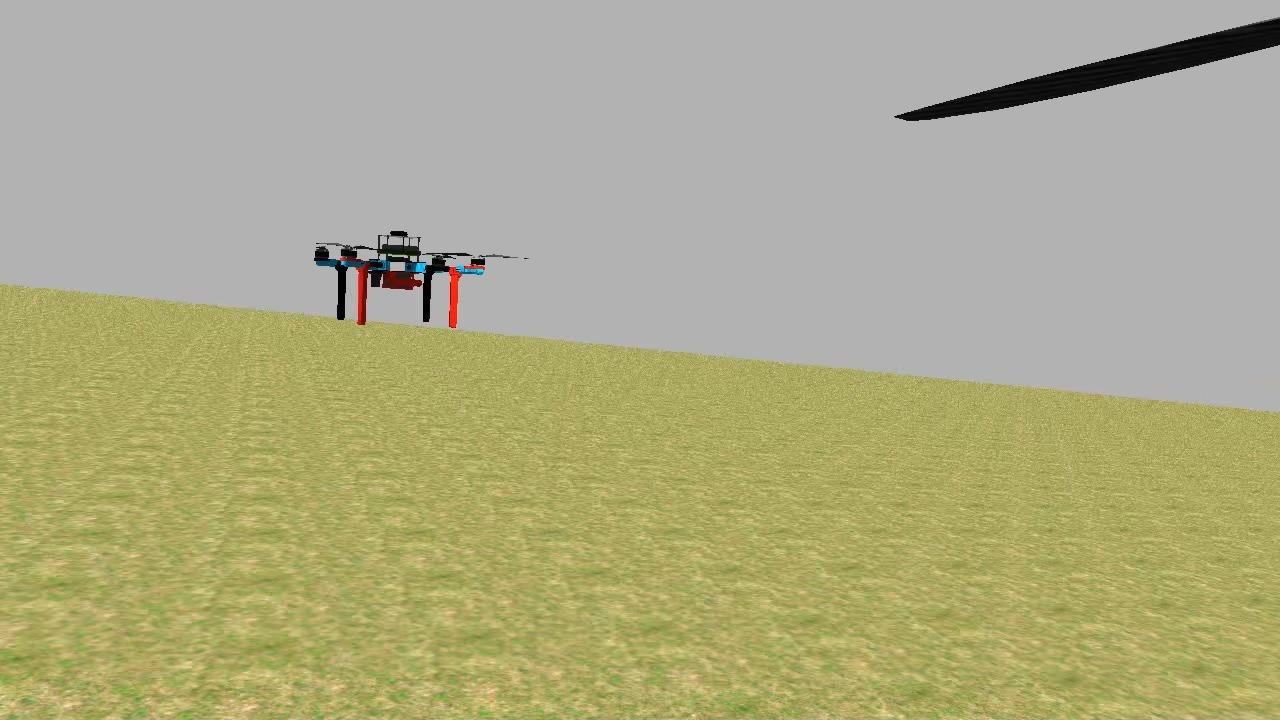UAV: (308, 222, 492, 328)
